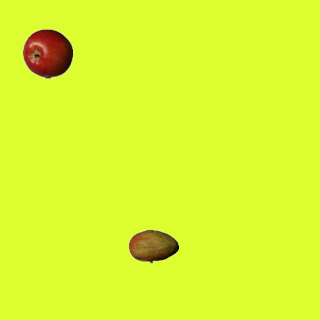Apple Braeburn: (22, 28, 72, 78)
Papaya: (128, 221, 178, 271)
